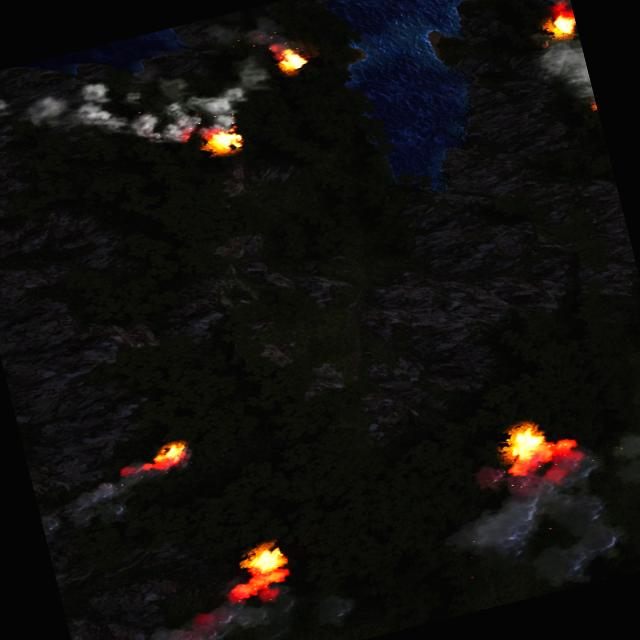fire: (499, 420, 561, 472), (237, 542, 288, 582), (198, 126, 242, 157), (147, 440, 187, 470), (275, 46, 308, 74), (546, 12, 578, 40), (588, 100, 598, 112)
smoke: (0, 26, 291, 194), (428, 423, 640, 614), (68, 556, 369, 640), (32, 454, 180, 540), (530, 31, 598, 125), (198, 8, 280, 62), (486, 0, 572, 28)
